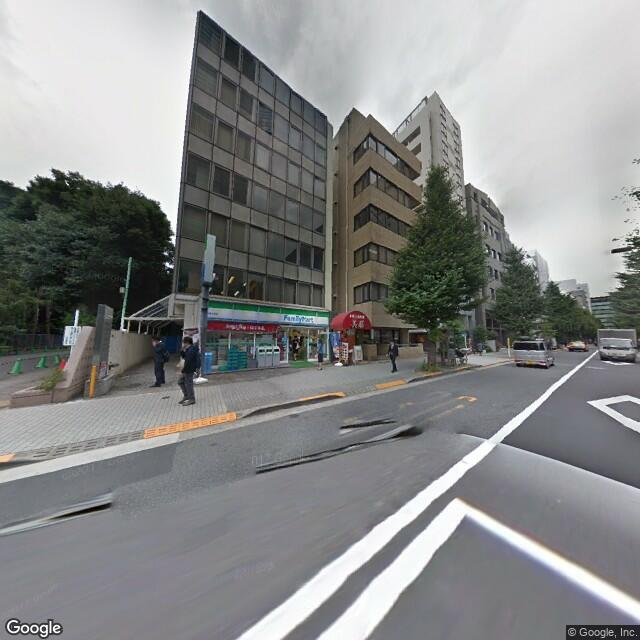family_mart: (206, 300, 331, 329)
